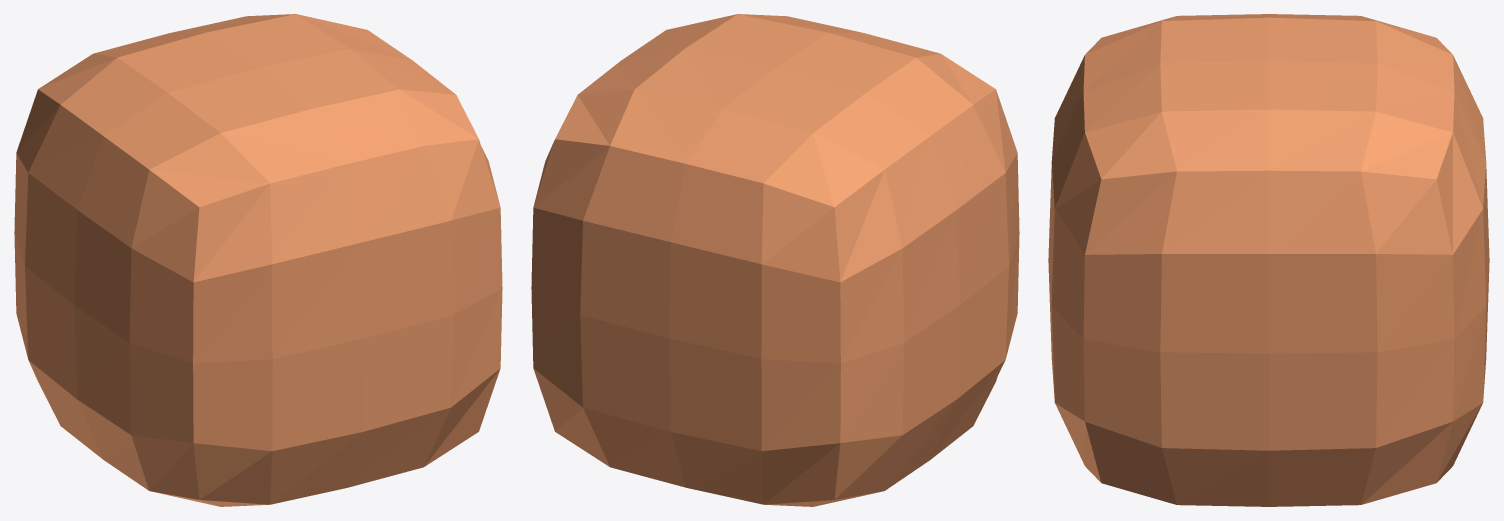
The model's file is bevel_cube.glb.
3 views of the same model, side by side, from view 1: azimuth 30°, elevation 25°; view 2: azimuth 150°, elevation 25°; view 3: azimuth 270°, elevation 25° (orthographic). The views are drawn at different scales.
Visible parts, largest first — view 1: geometry_0; view 2: geometry_0; view 3: geometry_0.
Boxes of the visible parts, x1,y1,x2,y2 form: geometry_0: (14,14,502,506); geometry_0: (531,14,1019,506); geometry_0: (1048,14,1489,506).
Bounding box in the file's own units: 1.48 × 1.48 × 1.48.
